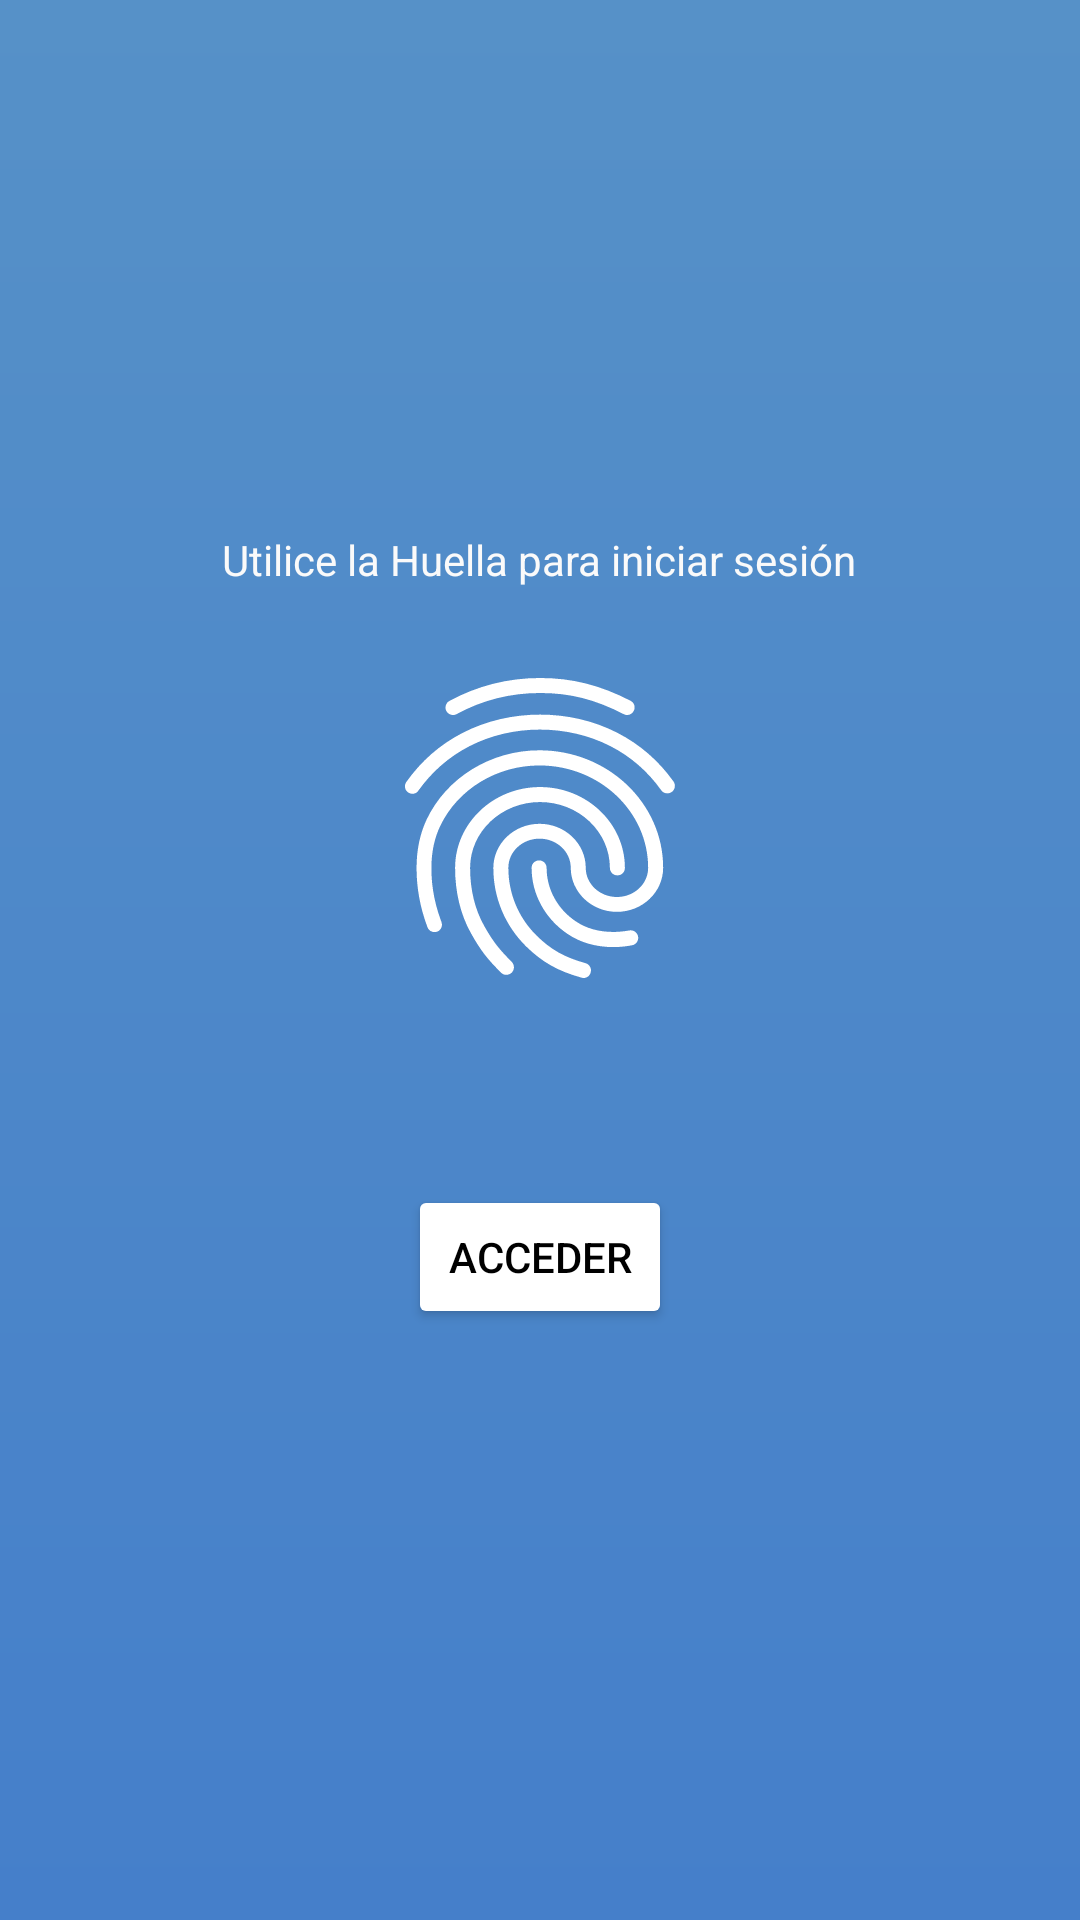

Screen size 1080w x 1920h. Icon name, then its box in pixels as box(x1, y1, x2, y2):
fingerprint: box(405, 678, 675, 978)
